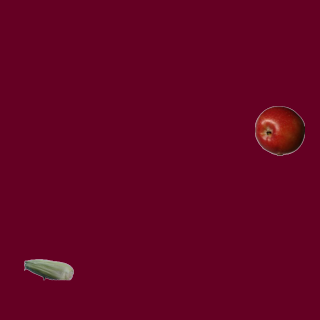Apple Braeburn: (254, 105, 304, 155)
Corn Husk: (23, 244, 73, 294)
